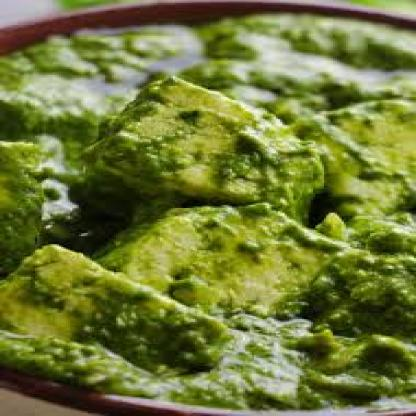palak_paneer: (0, 13, 416, 412)
